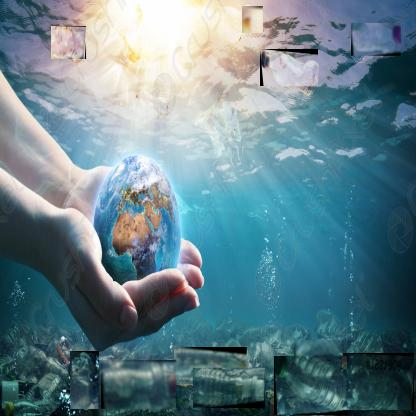bottle: (274, 356, 349, 415), (343, 353, 415, 411), (101, 360, 177, 410), (193, 368, 266, 409), (174, 347, 248, 378), (260, 49, 319, 87), (70, 351, 100, 410), (351, 23, 402, 57), (51, 26, 87, 60), (294, 340, 338, 364), (242, 6, 264, 34)
